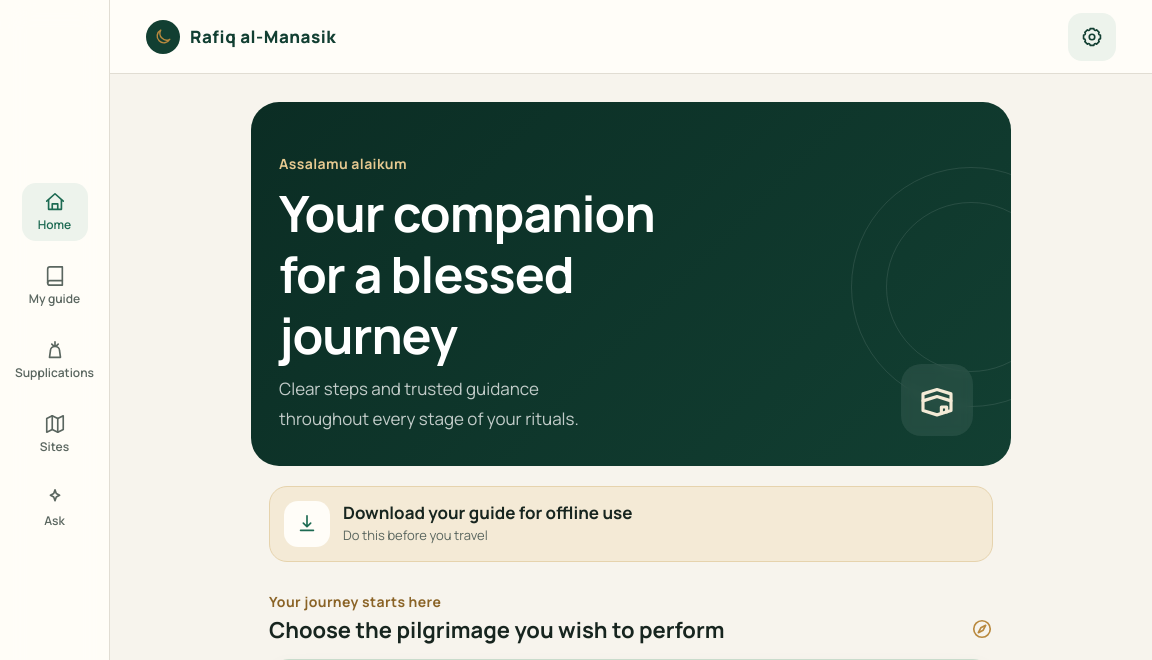
Settings side panel (FR-032) › draws the step picture and the title together
Step 1. Click the button "My guide" → (54,286), box [22,257,88,315]
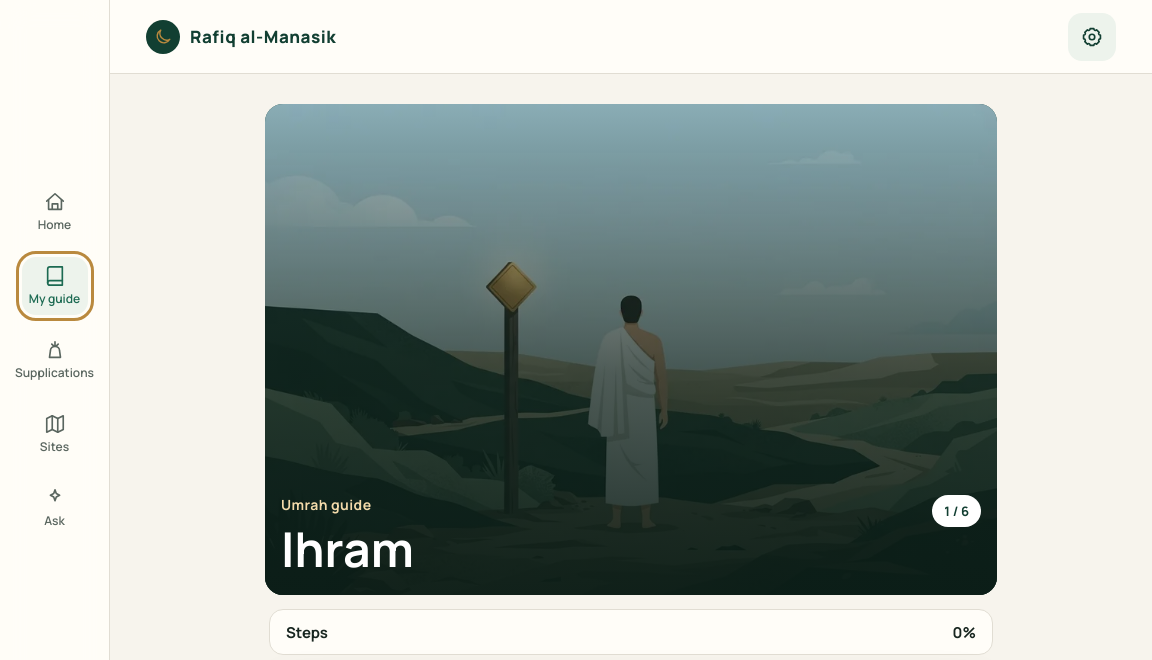
Result: the picture with class "step-hero-image" is shown at [265,104,997,595]
Result: the heading "Ihram" is shown at [281,519,414,579]
